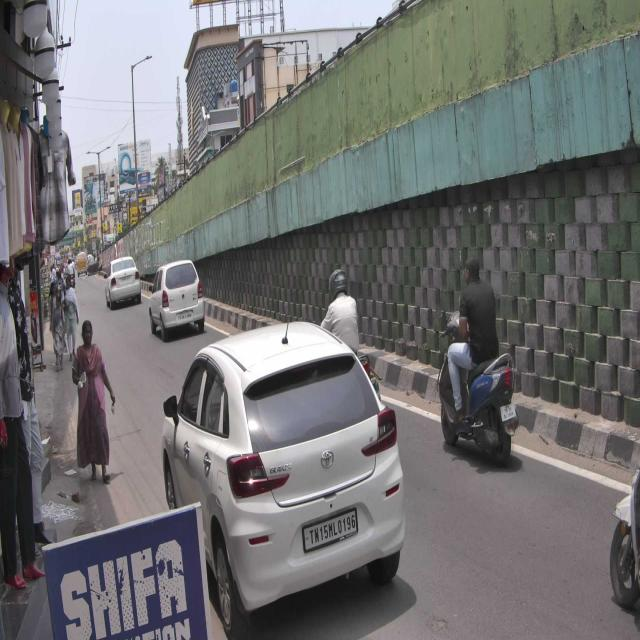single_rider: (436, 255, 521, 463)
